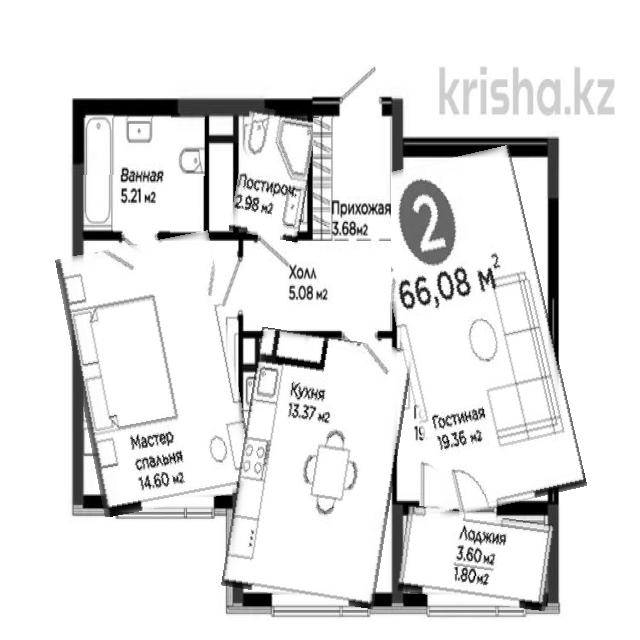balcony: (400, 509, 555, 606)
bathroom: (78, 112, 205, 238)
hallway: (314, 118, 392, 330)
kitchen: (231, 332, 405, 604)
living_room: (382, 152, 568, 514), (67, 236, 246, 511)
other: (234, 108, 314, 240)
